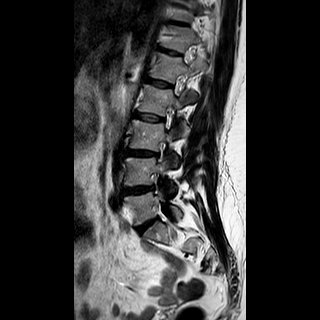RFS0: (155, 100, 179, 134), (167, 70, 190, 100)
RFS2: (142, 167, 168, 199), (147, 136, 173, 167)
